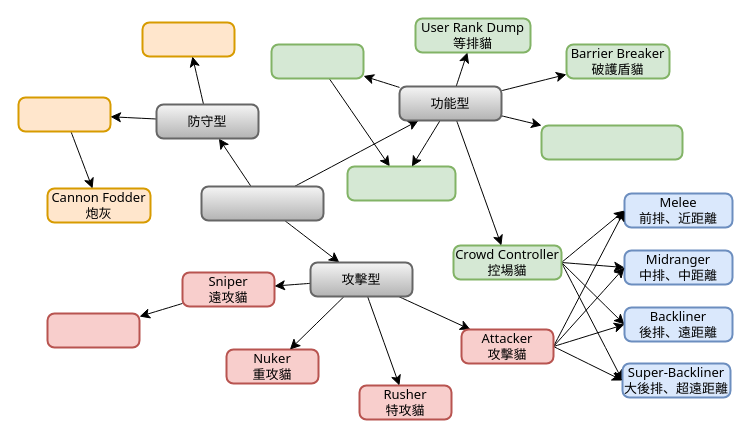
Some shapes in this 750 by 437 pixel diagram are drawn without their labels. Here are the shapes that lost their labels. From the top down, the centre of each, then its label:
At [188,39]: "Tanker 大型坦克".
At [317,61]: "Critter 爆擊貓".
At [64,114]: "MeatShield 量產肉盾".
At [611,142]: "Demon Shield Breaker 破惡魔盾貓".
At [262,203]: "依定位".
At [401,183]: "Combo Slave 聯組貓".
At [93,330]: "Waver 波動貓".
